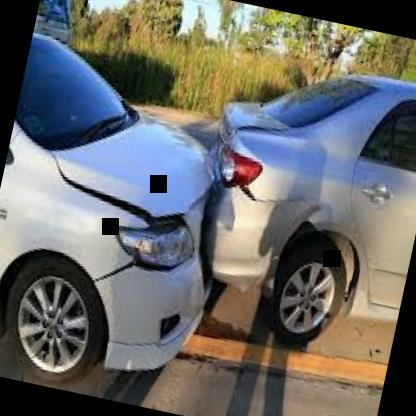accident: (104, 82, 416, 413)
